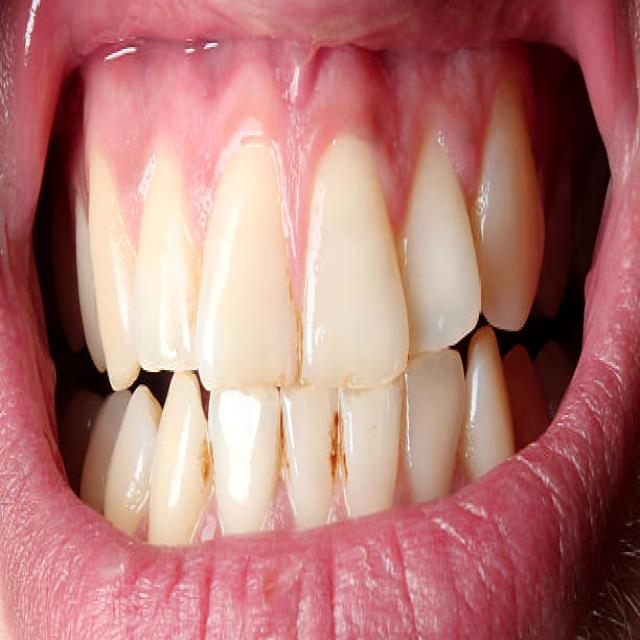gingivitis: (62, 57, 548, 247)
